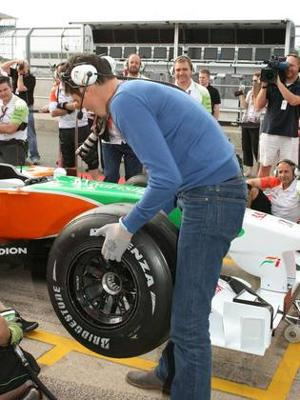person: (57, 49, 249, 399)
